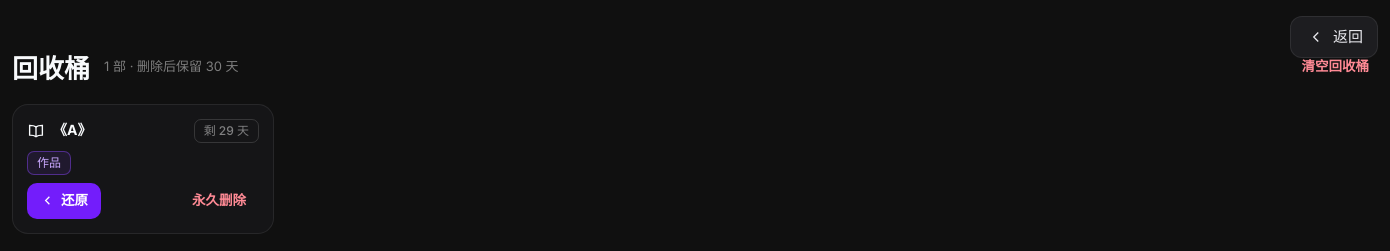
Test: 回收站：真实点击 › 还原：pl.works 原文逐字节为去掉 trashed、time=当前时间的 JSON；提示 已还原
Click the button "还原" at (64, 201), box x1=27 y1=183 x2=101 y2=219
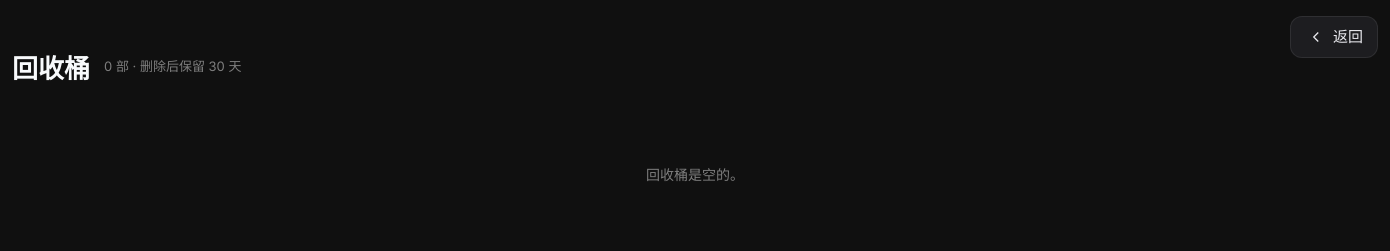
Result: the text "回收桶是空的。" is shown at x1=646 y1=166 x2=744 y2=183
